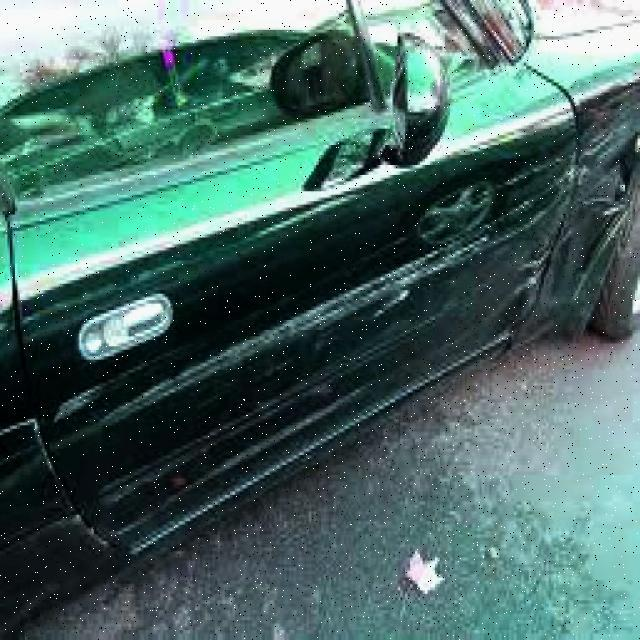car damage: (3, 127, 639, 473)
